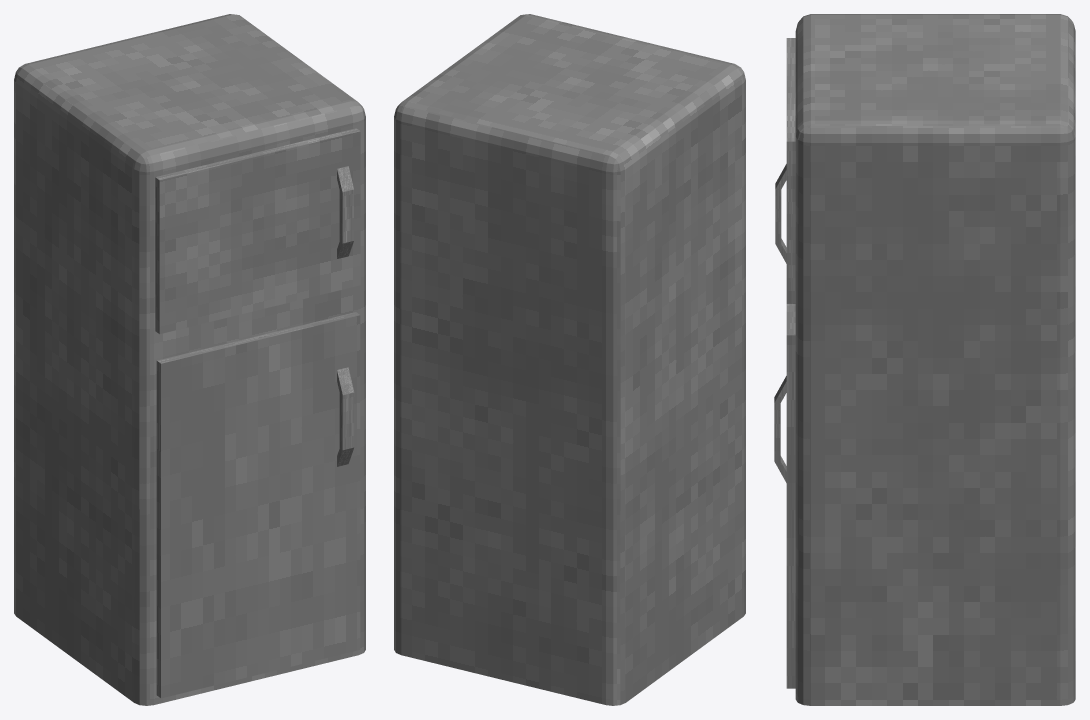
File: lodowka.fbx
3 renders of one model, left to right at view 1: azimuth 30°, elevation 25°; view 2: azimuth 150°, elevation 25°; view 3: azimuth 270°, elevation 25°, orthographic. The views are drawn at different scales.
Parts seen in each view (by area): view 1: Cube.034, Cube.059, Cube.058, Cube.061, Cube.060; view 2: Cube.034; view 3: Cube.034, Cube.059, Cube.058, Cube.061, Cube.060.
Boxes of the visible parts, x1,y1,x2,y2 form: Cube.034: (14, 14, 365, 705); Cube.059: (156, 312, 360, 698); Cube.058: (155, 128, 360, 334); Cube.061: (337, 367, 354, 466); Cube.060: (337, 166, 353, 258); Cube.034: (394, 14, 745, 705); Cube.034: (795, 14, 1075, 705); Cube.059: (786, 304, 795, 688); Cube.058: (786, 38, 795, 303); Cube.061: (774, 376, 786, 482); Cube.060: (775, 164, 786, 263).
Size of the model in its own units: 80.87 by 185 by 87.05.
